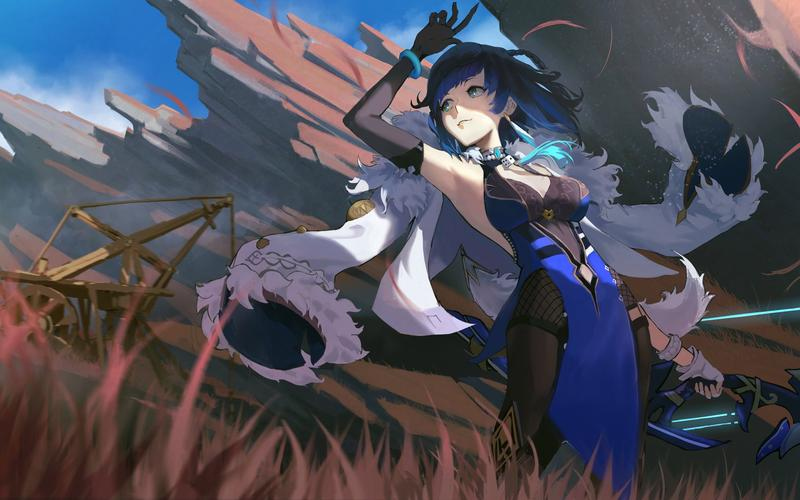夜兰: (342, 1, 655, 497)
